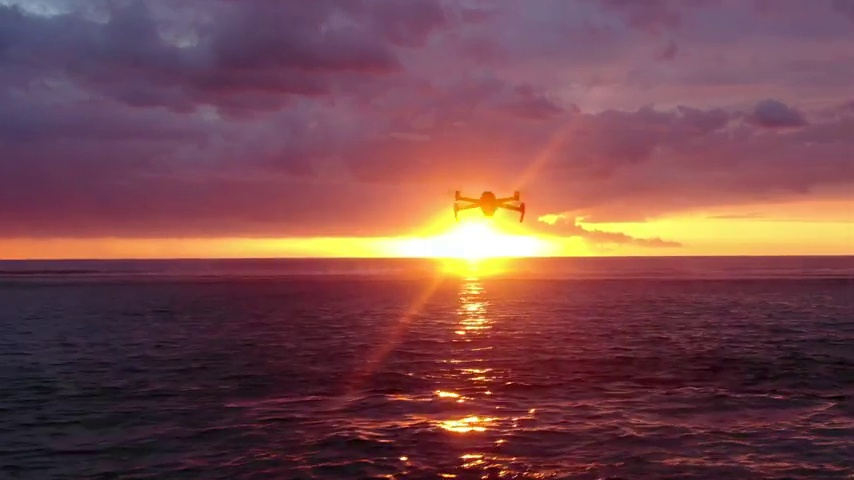drone: (453, 188, 525, 224)
